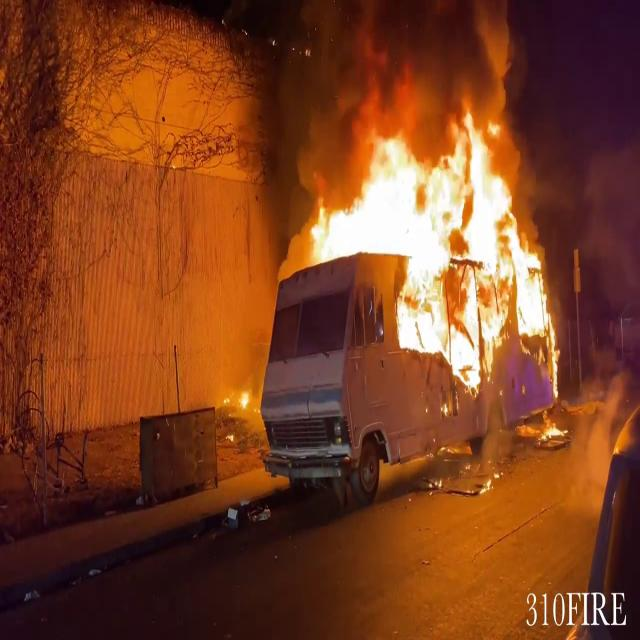Fire: (296, 65, 560, 371)
